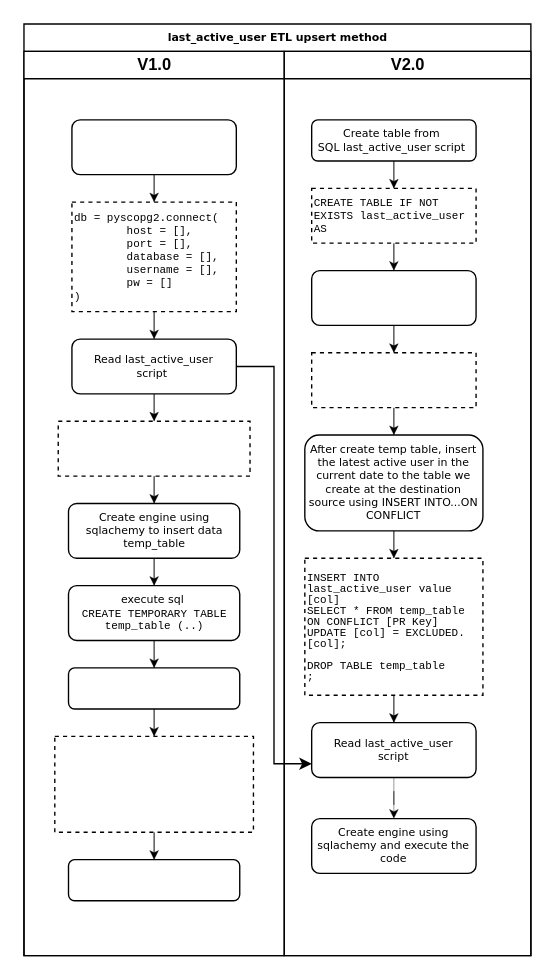
The diagram is 555 pixels wide and 980 high, and some of its shapes have lost their labels. Here are the shapes that lost their labels. From the top down, the centre of each, then its label:
At point (153, 147): "Connect destination source using pyscopg2".
At point (393, 297): "Create temp table to store the latest active user at its current date".
At point (393, 379): "CREATE TEMPORARY TABLE temp_table AS".
At point (153, 448): "sql_file = pd.read_sql_query ([last_active_user.sql],db)".
At point (153, 688): "Insert to destination table".
At point (153, 783): "sql_file.to_sql( 'last_active_table', con, if_exists = 'append', index = False )".
At point (153, 879): "Then, select the latest active user and insert to the table".
